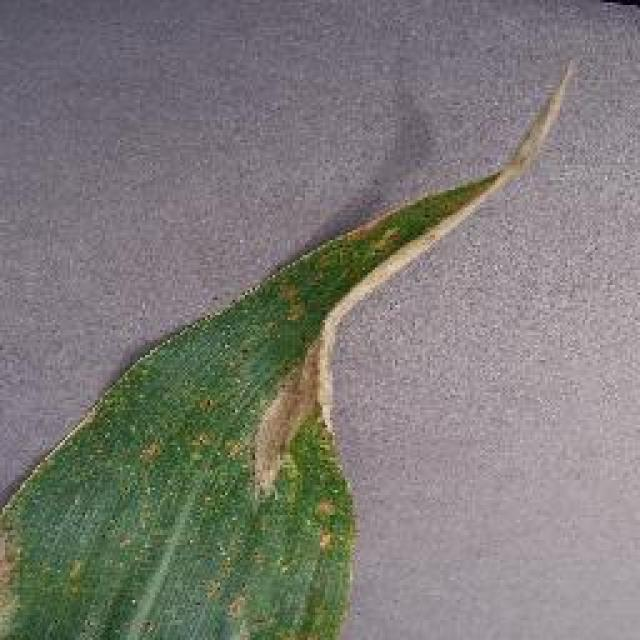Corn___Northern_Leaf_Blight: (0, 160, 550, 640)
